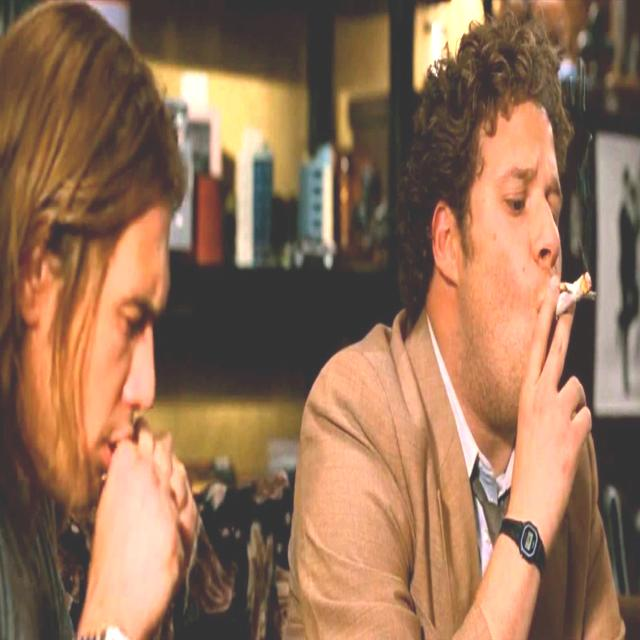cigarette: (539, 246, 614, 342)
